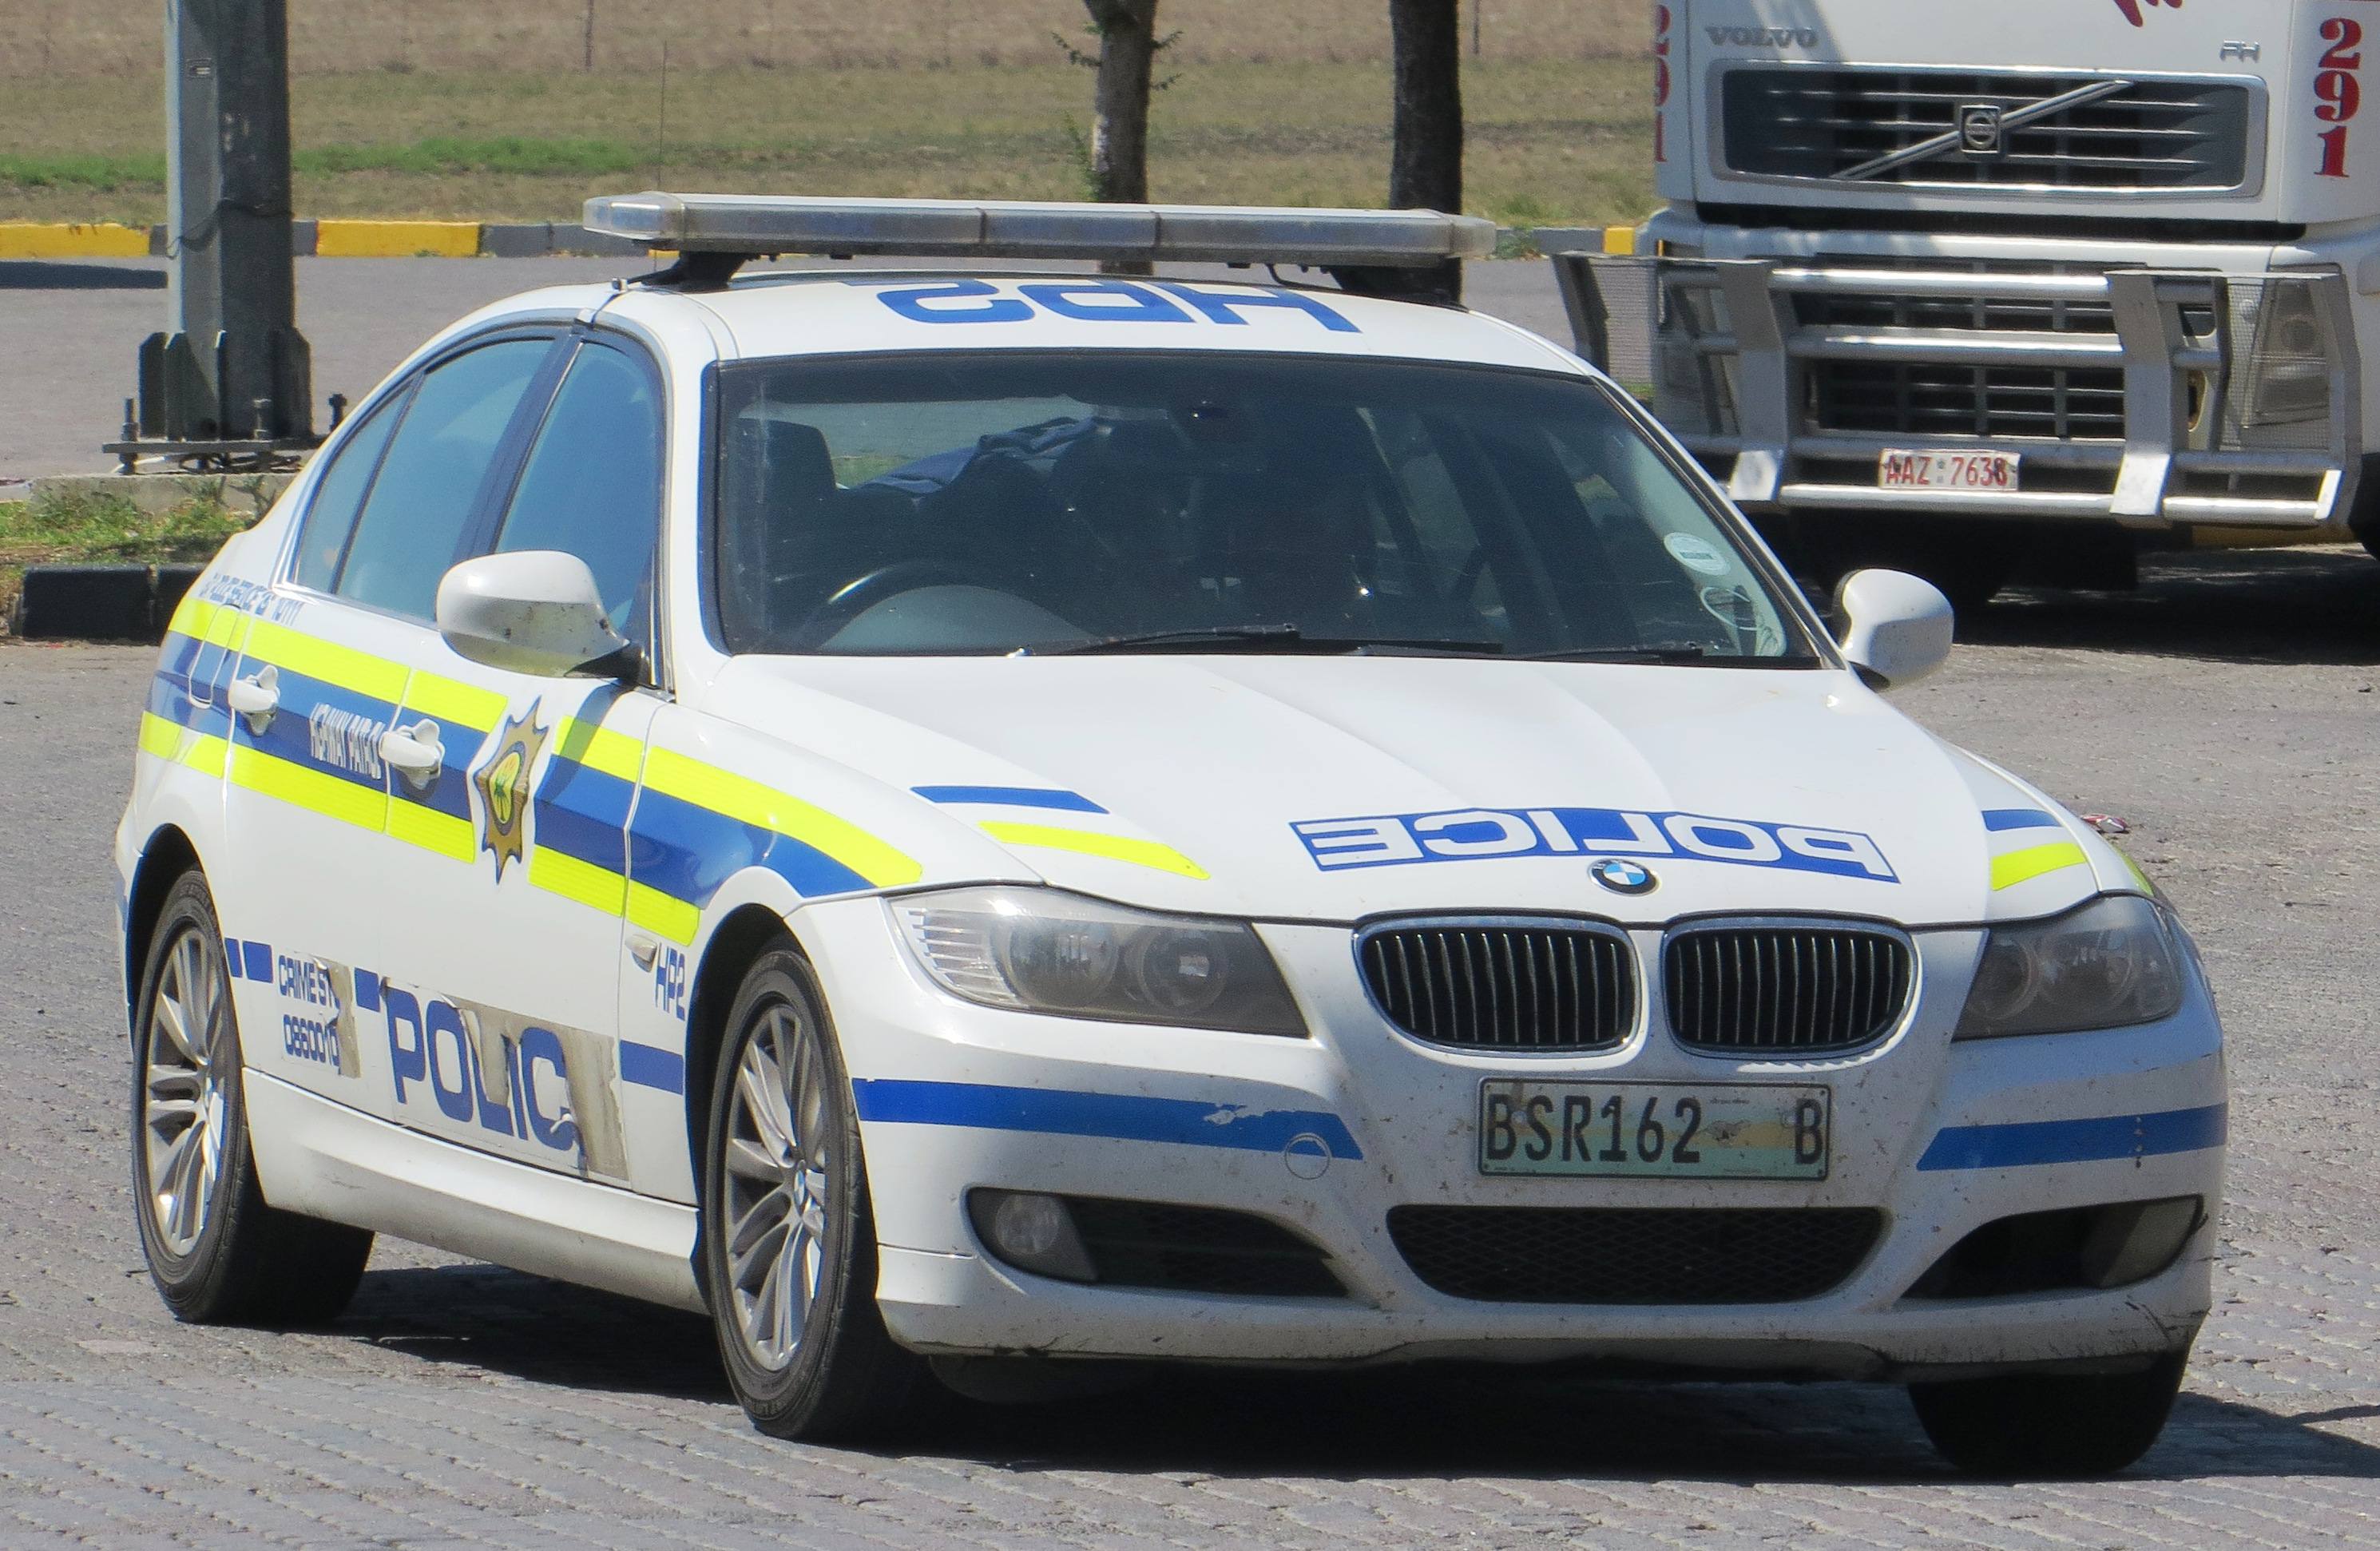special: (130, 189, 2231, 1452)
